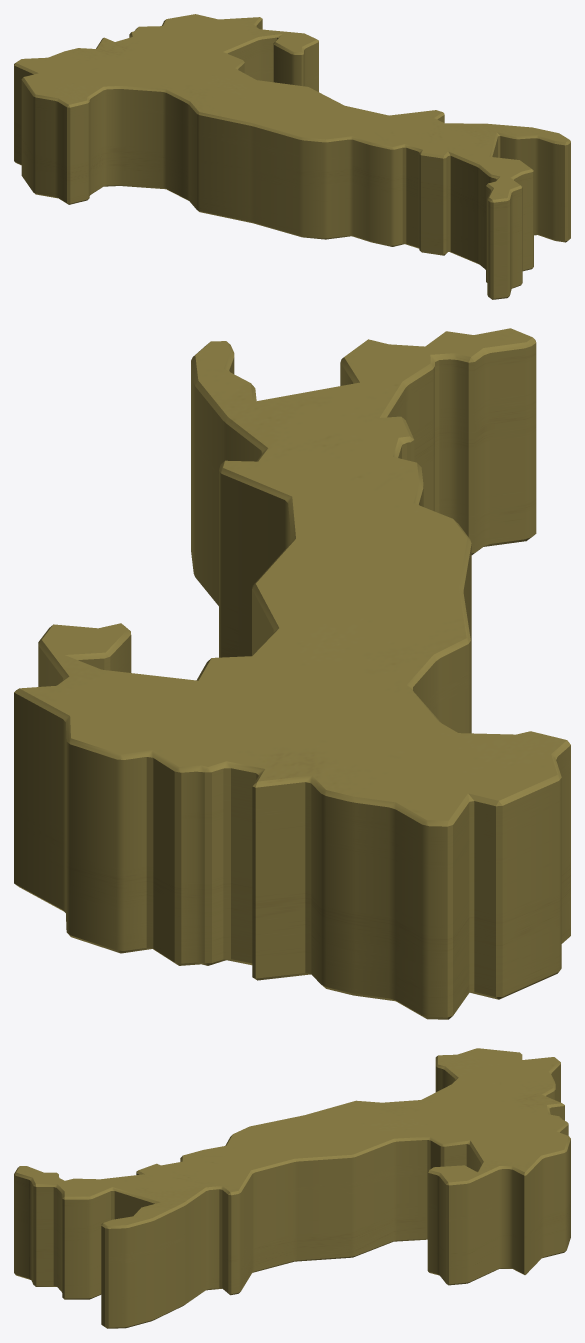
File: italy.DAE
3 views of the same model, one above another, from view 1: azimuth 30°, elevation 25°; view 2: azimuth 150°, elevation 25°; view 3: azimuth 270°, elevation 25° (orthographic). The views are drawn at different scales.
Visible parts, largest first — view 1: Italy; view 2: Italy; view 3: Italy.
Boxes of the visible parts, left/top/right/bottom form: Italy: left=14, top=14, right=570, bottom=299; Italy: left=14, top=328, right=570, bottom=1019; Italy: left=14, top=1048, right=570, bottom=1328.
Bounding box in the file's own units: 93.51 × 123 × 25.
Materials: 1 (1 with a texture image).
